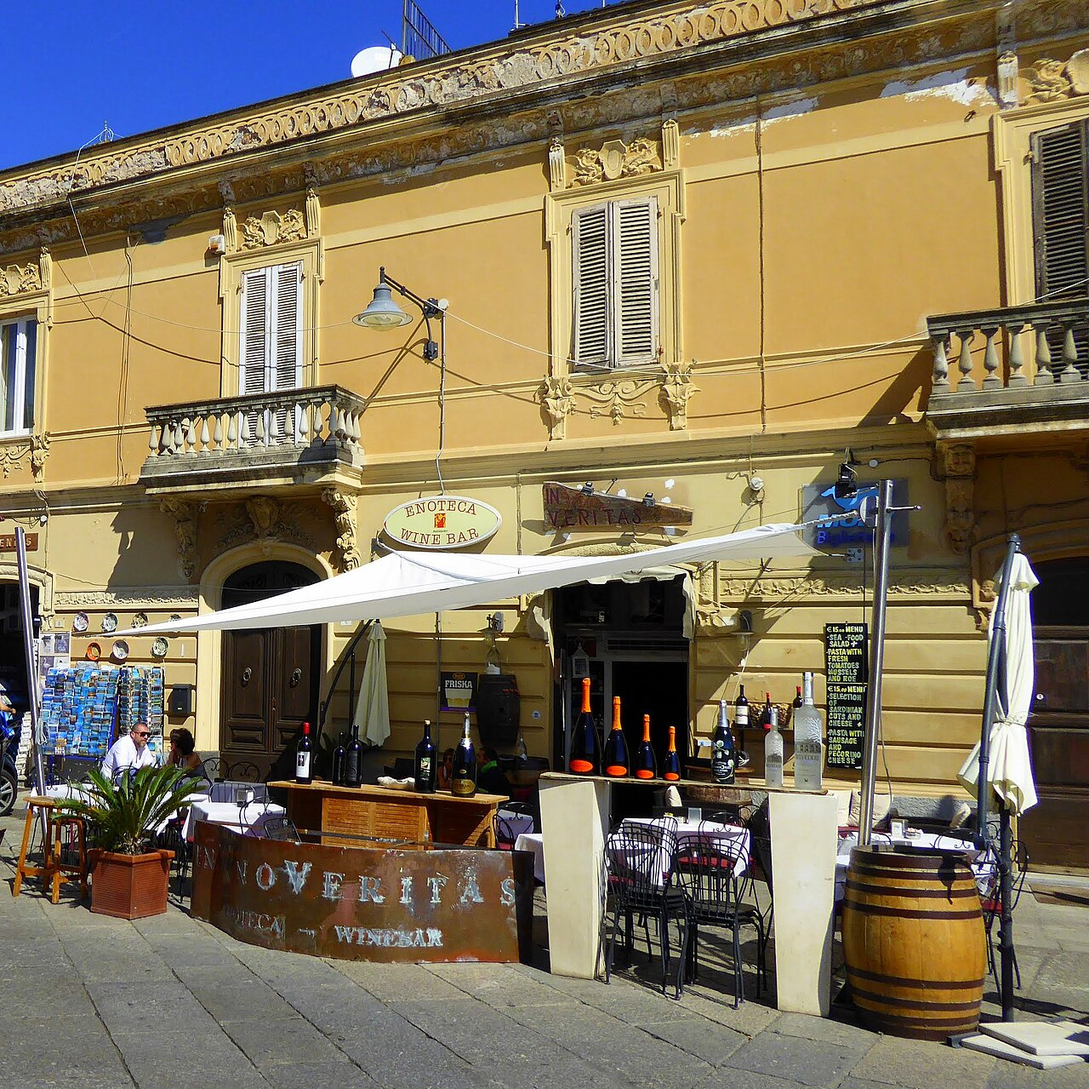unknown_bottle: (793, 672, 824, 792), (569, 679, 600, 776), (602, 698, 630, 778), (711, 700, 736, 784), (452, 713, 477, 795), (414, 721, 437, 793), (764, 707, 784, 788), (634, 713, 657, 779), (345, 725, 365, 787), (735, 685, 750, 760), (295, 723, 313, 784), (662, 727, 681, 781), (331, 729, 348, 786), (734, 685, 750, 732)
